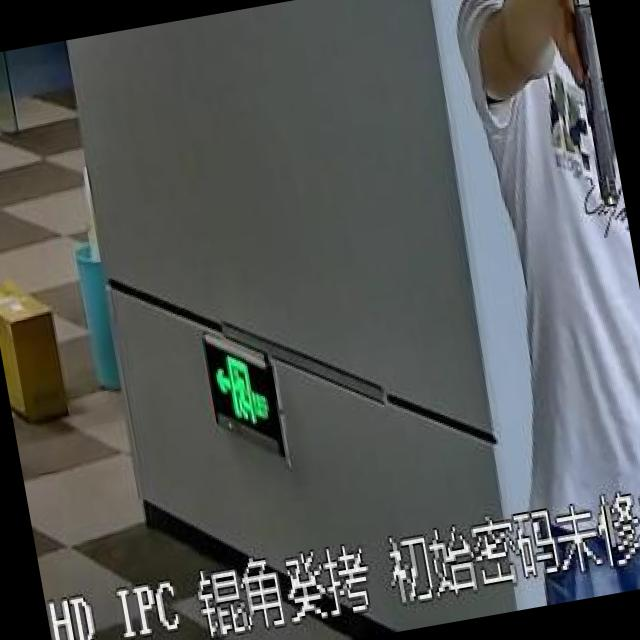Guns: (534, 0, 627, 227)
